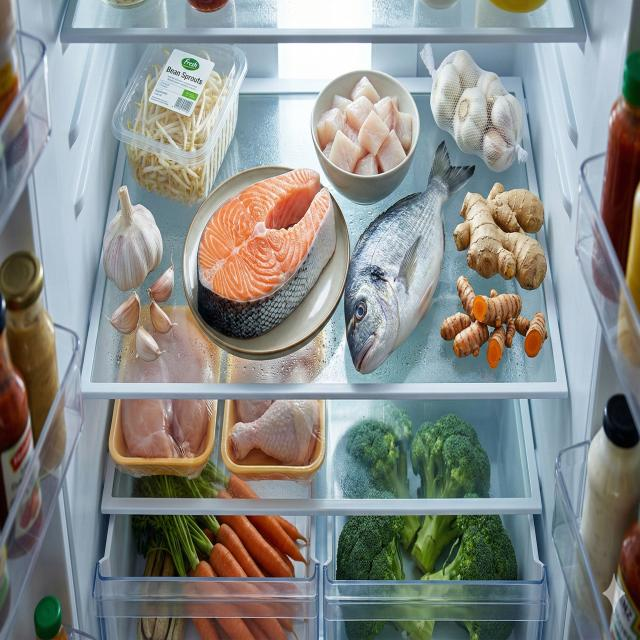bean_sprouts: (124, 49, 237, 206)
brocolli: (332, 402, 518, 640)
carrot: (182, 472, 308, 640)
chicken: (230, 399, 320, 467), (122, 398, 209, 458)
fish: (344, 142, 476, 374), (197, 167, 337, 341)
garlic: (430, 49, 524, 173), (105, 250, 177, 362), (102, 186, 163, 291)
ginger: (454, 182, 546, 290)
turmeric: (441, 276, 548, 370)
